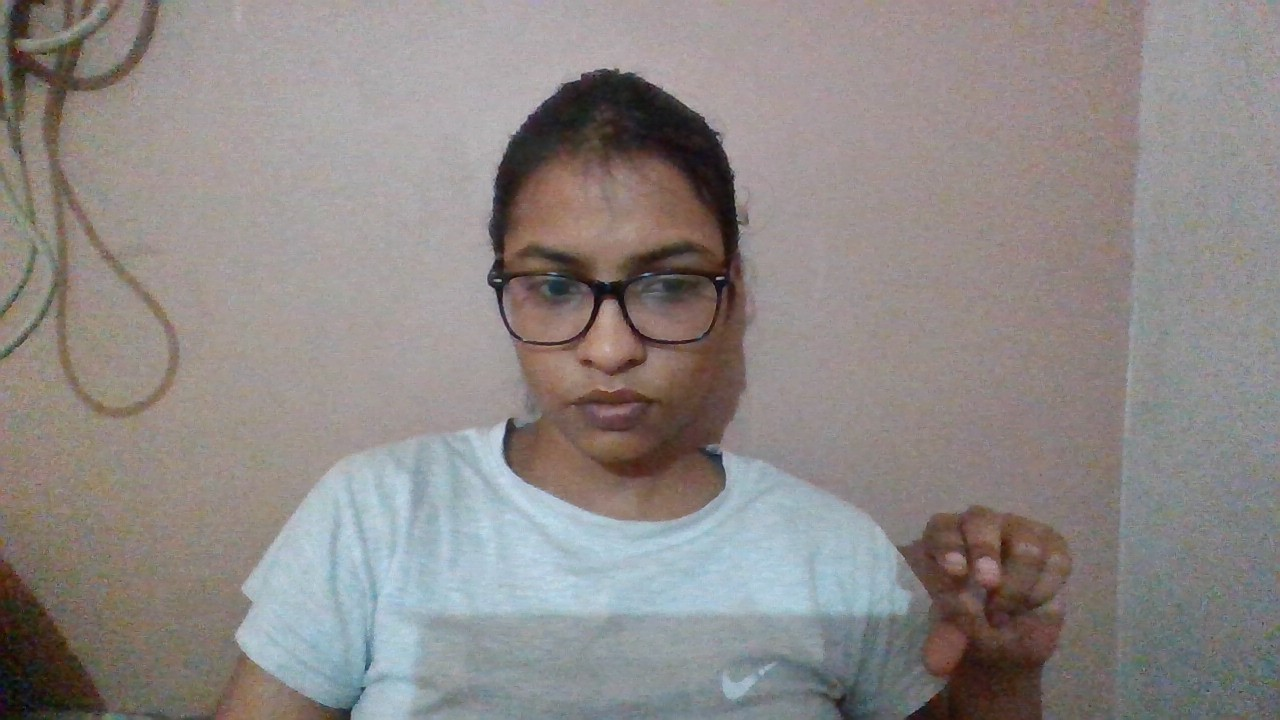No: (857, 494, 1198, 720)
